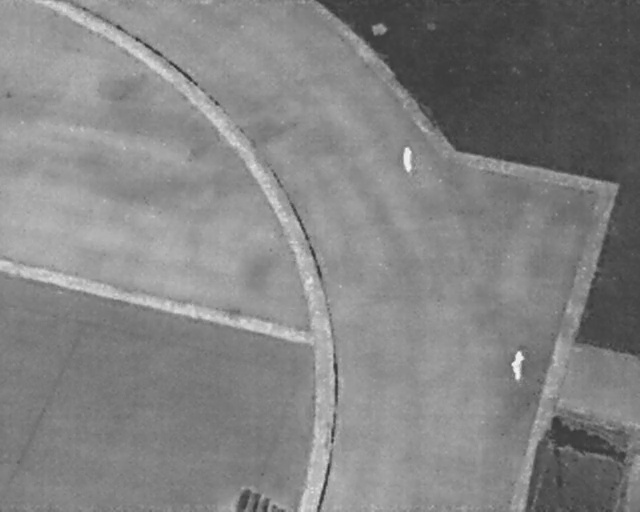Person: (509, 347, 525, 383), (399, 145, 415, 175)
